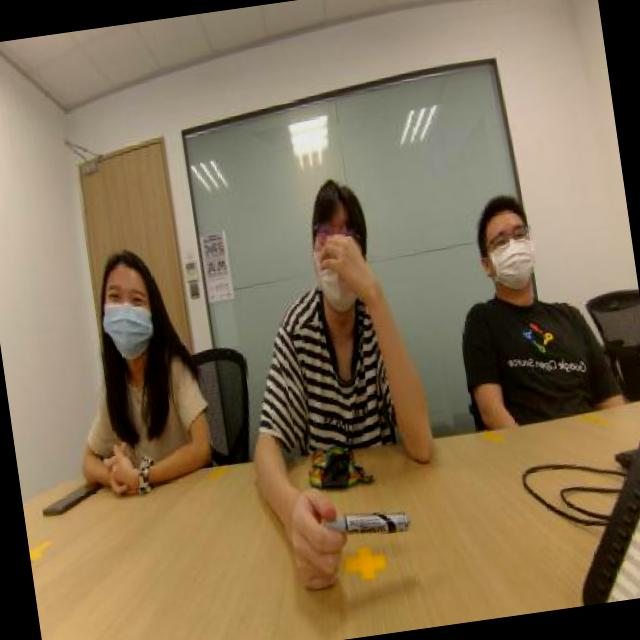Person: (246, 128, 460, 460), (455, 123, 640, 411), (62, 228, 232, 484)
